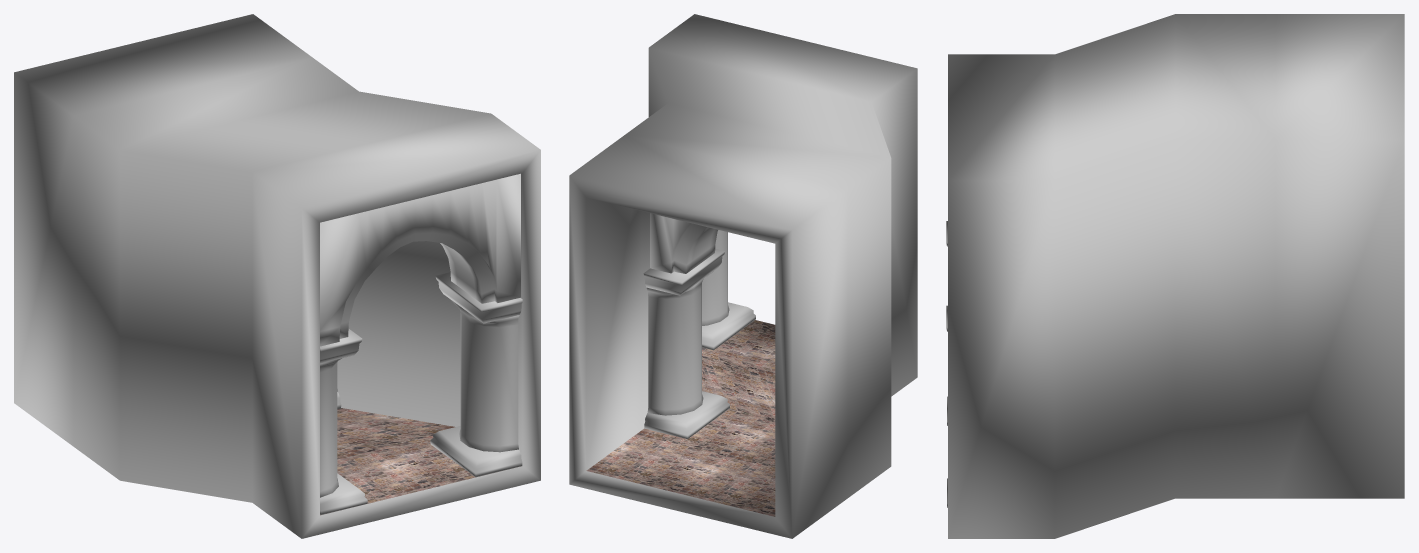
Rendered from templepieceB.dae.
3 renders of one model, left to right at view 1: azimuth 30°, elevation 25°; view 2: azimuth 150°, elevation 25°; view 3: azimuth 270°, elevation 25°, orthographic. The views are drawn at different scales.
Visible parts, largest first — view 1: meshU3D; view 2: meshU3D; view 3: meshU3D.
Boxes of the visible parts, x1,y1,x2,y2 form: meshU3D: (14, 14, 540, 538); meshU3D: (569, 14, 917, 538); meshU3D: (946, 14, 1404, 538).
Size of the model in its own units: 286 by 287 by 332.
